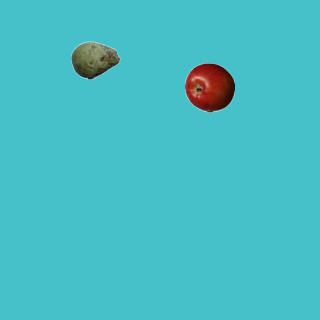Apple Braeburn: (184, 62, 234, 112)
Pear Stone: (70, 35, 120, 85)
